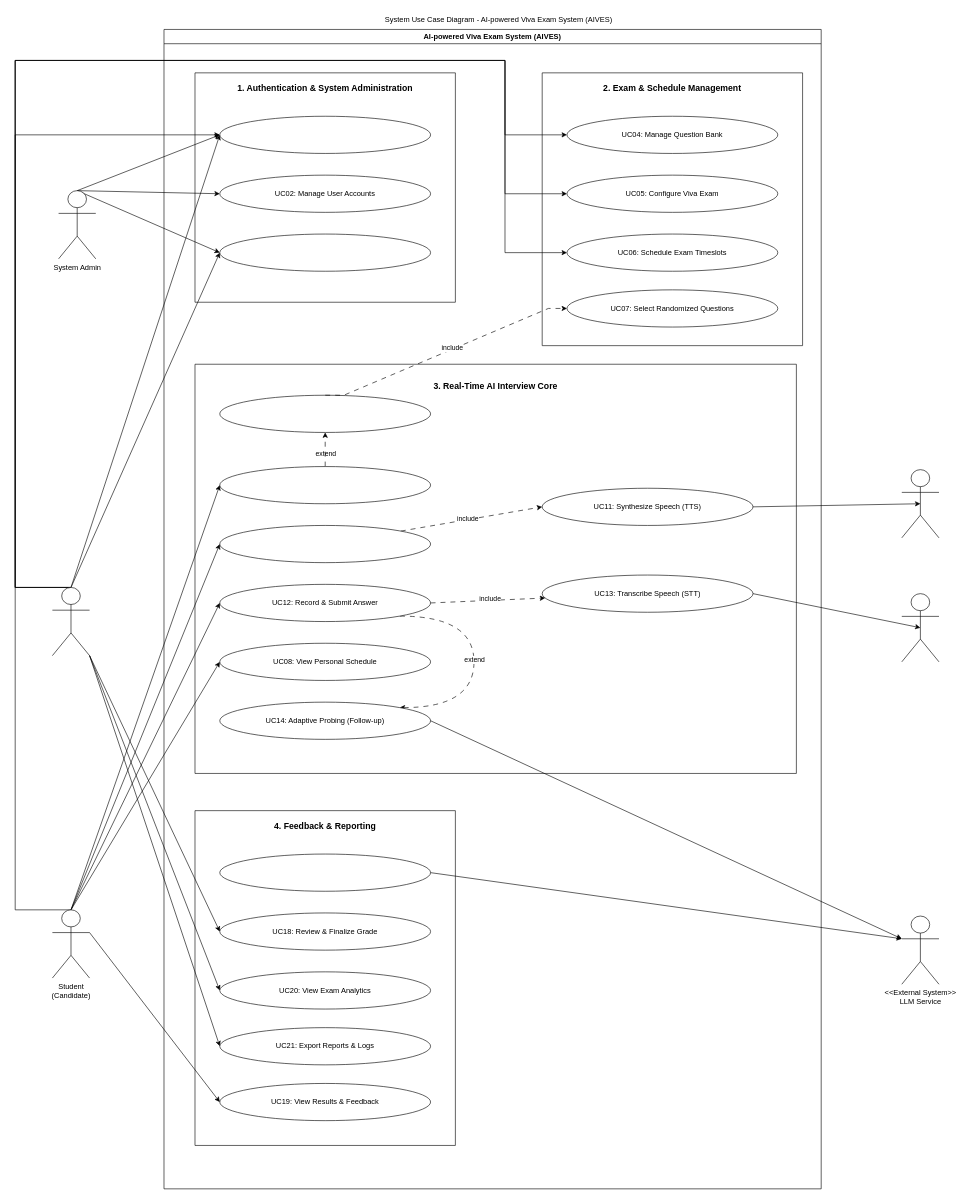
Image size: 967x1200. Some labels were removed from this diagram. Here are the shapes that lost their labels. From the top down, the box of each, then its label:
(219, 116, 431, 153): UC01: Authenticate User (Login)
(219, 233, 431, 271): UC03: Manage Courses
(219, 395, 431, 432): UC15: Resume Interrupted Session
(219, 466, 431, 504): UC09: Join Virtual Viva Room
(901, 469, 939, 538): <<External System >> TTS Service
(219, 525, 431, 563): UC10: Listen to Viva Question
(52, 587, 90, 656): Lecturer (Examiner)
(901, 593, 939, 662): <<External System >> STT Service
(219, 853, 431, 891): UC17: Generate AI Score & Feedback
